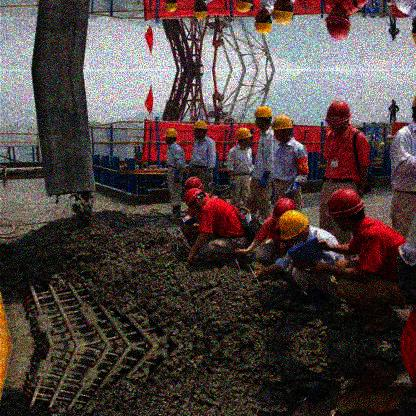helmet: (326, 188, 363, 228), (324, 1, 351, 44), (282, 213, 312, 239), (326, 101, 350, 132), (256, 7, 275, 34), (273, 1, 293, 25), (234, 125, 252, 149), (182, 190, 206, 208), (251, 107, 270, 129), (272, 117, 291, 139), (194, 3, 210, 22), (192, 118, 205, 139), (163, 125, 176, 145)
